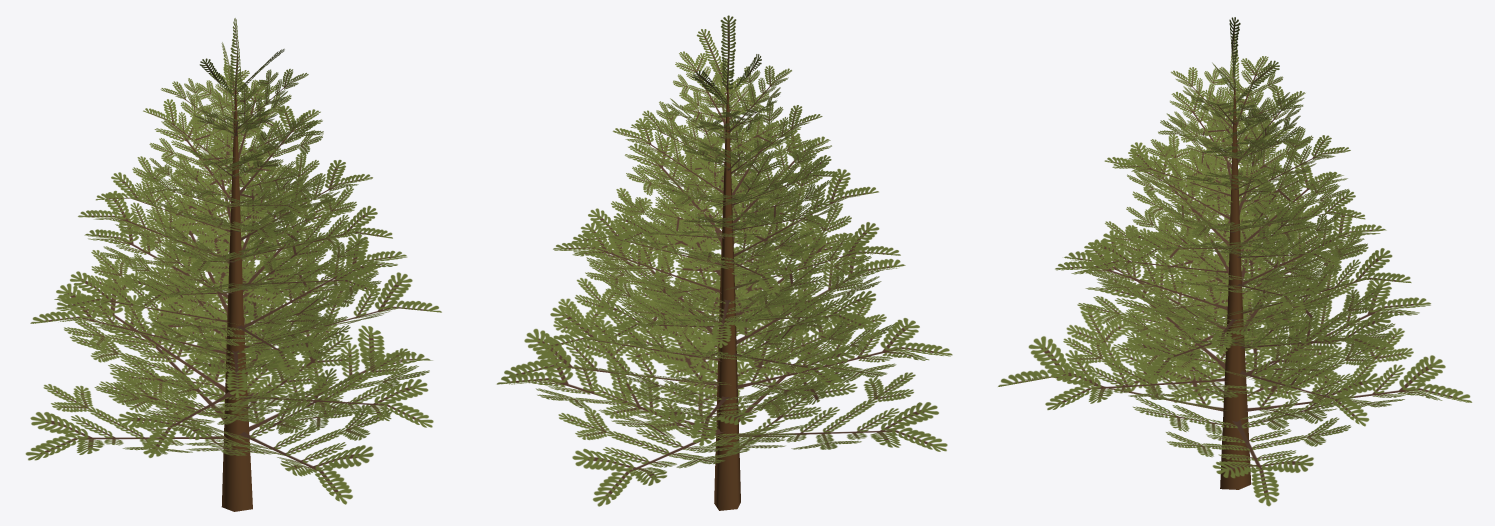
Rendered from Fir_Tree_2.glb.
The picture shows the model from 3 angles, left to right: view 1: azimuth 30°, elevation 25°; view 2: azimuth 150°, elevation 25°; view 3: azimuth 270°, elevation 25°; orthographic projection. The views are drawn at different scales.
Visible parts, largest first — view 1: Fir_Tree_2; view 2: Fir_Tree_2; view 3: Fir_Tree_2.
Boxes of the visible parts, left/top/right/bottom form: Fir_Tree_2: left=25, top=18, right=441, bottom=511; Fir_Tree_2: left=496, top=15, right=952, bottom=510; Fir_Tree_2: left=998, top=17, right=1472, bottom=506.
Bounding box in the file's own units: 5.19 × 5.49 × 5.23.
Materials: 2 (2 with a texture image).
